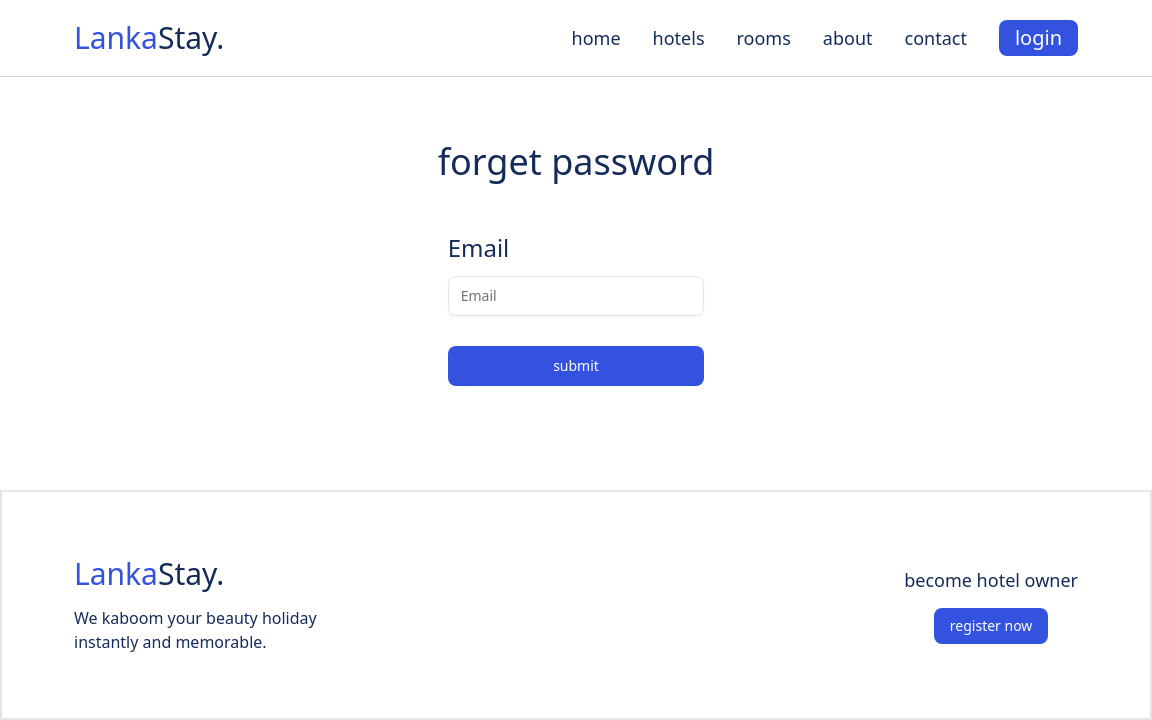
it: forgetPassword page › should show a success message
Type "not-exist@mail.com" into the field labelled "email". click: (576, 296)
box: [448,276,704,316]
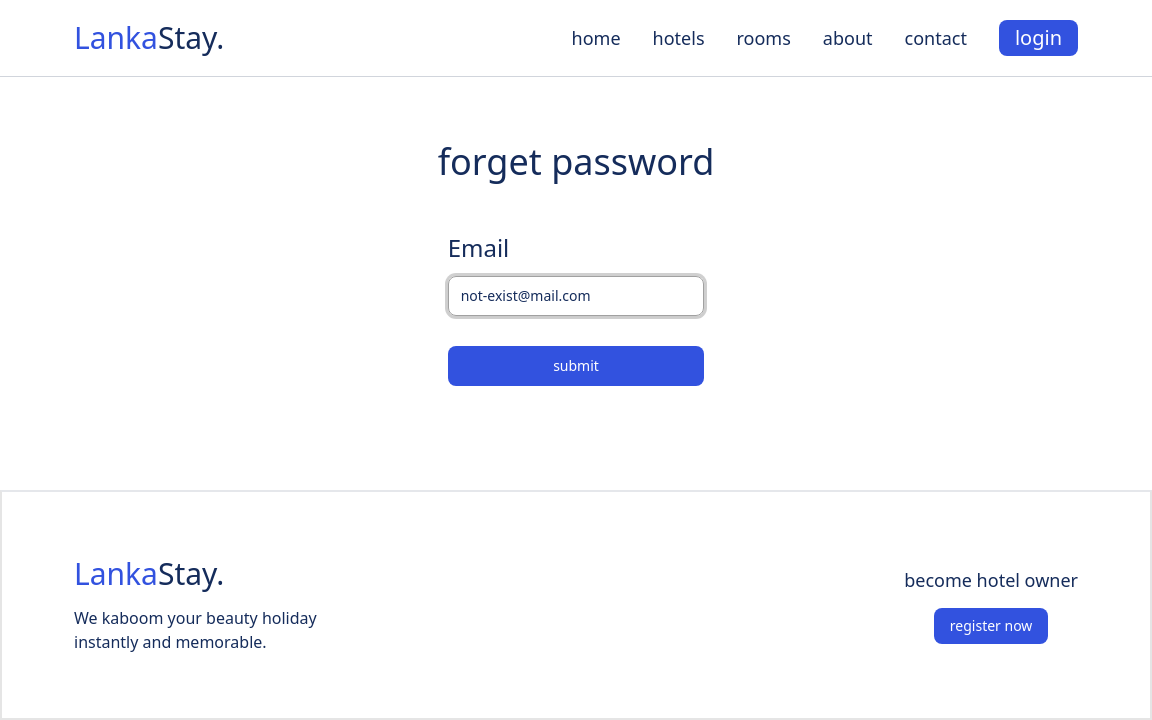
Click the button "submit". click: (576, 366)
box: [448,346,704,386]
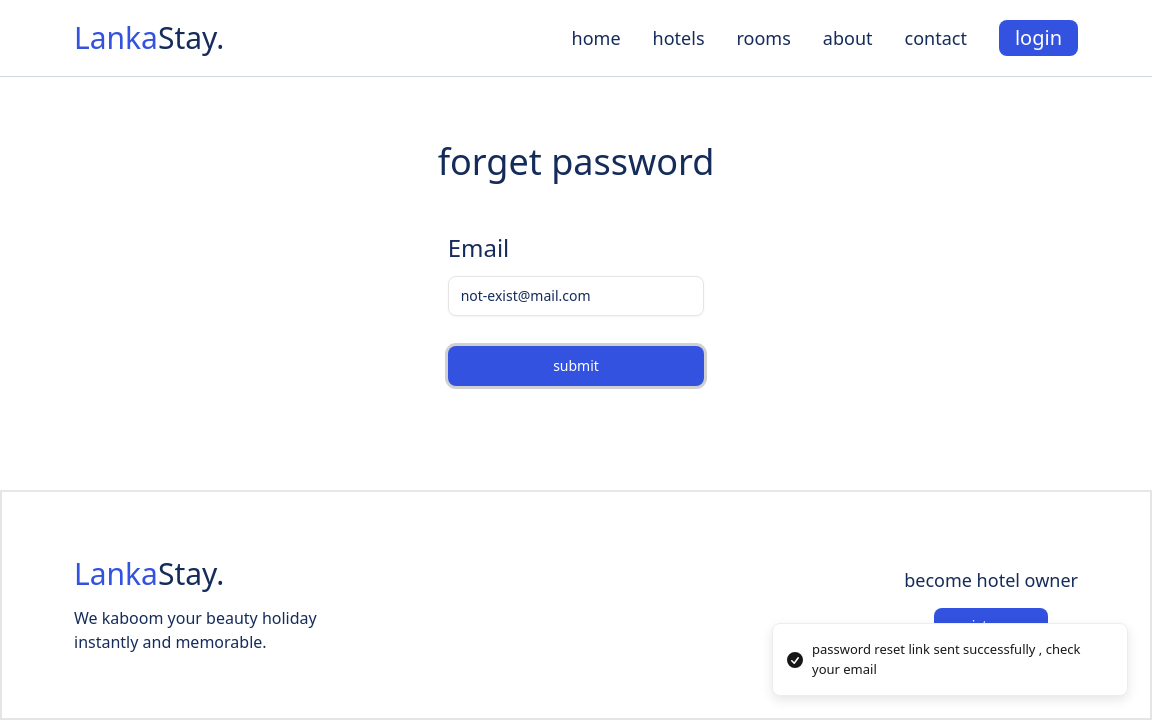
Check: the text "password reset link sent successfully , check your email" is shown, box [812,640,1111,679]
